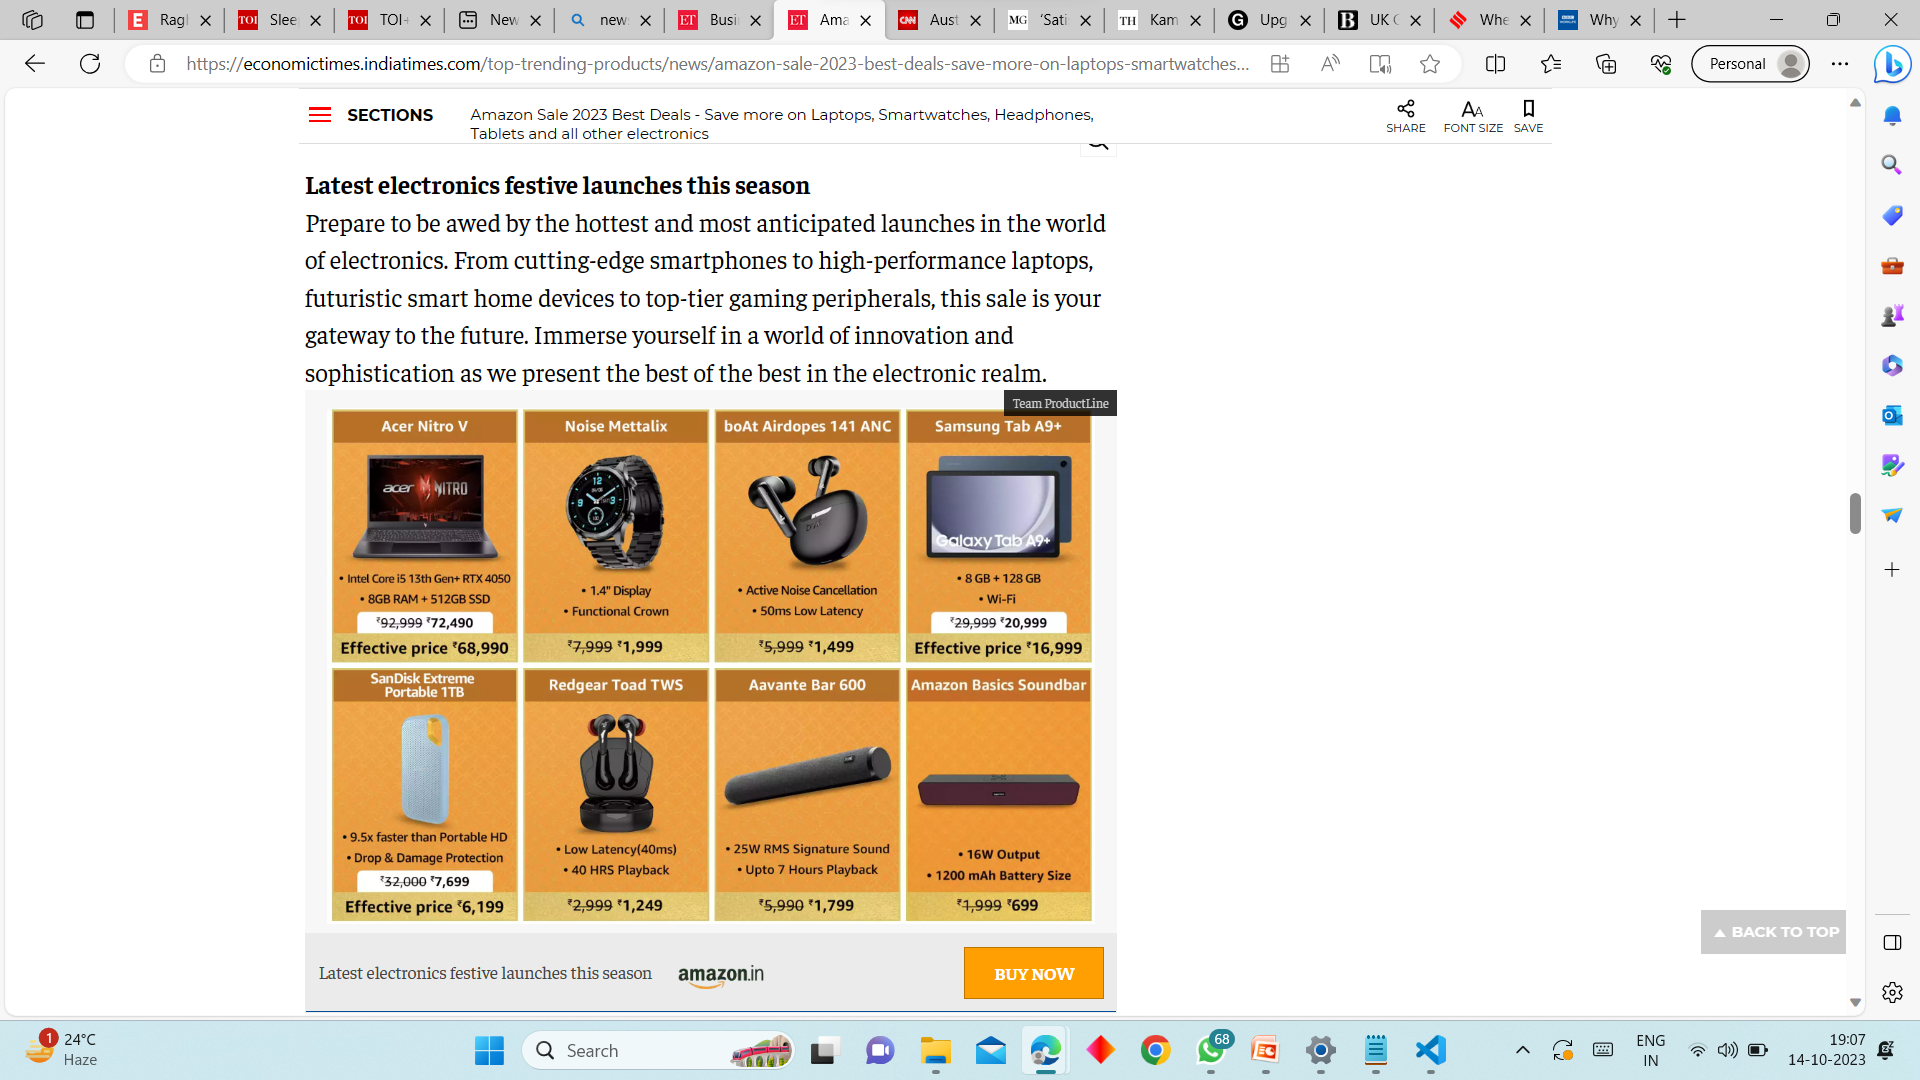Image: (302, 392, 1134, 1022), (284, 92, 342, 152)
Paragraph: (299, 206, 1170, 376), (465, 99, 1131, 145), (299, 157, 829, 199), (340, 99, 434, 145), (1440, 92, 1501, 136), (1510, 92, 1563, 141), (1370, 94, 1424, 135)
